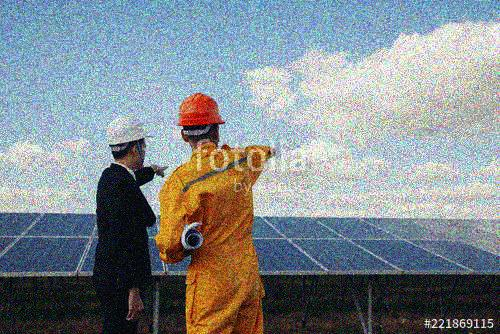helmet: (174, 91, 226, 150), (105, 113, 156, 171)
